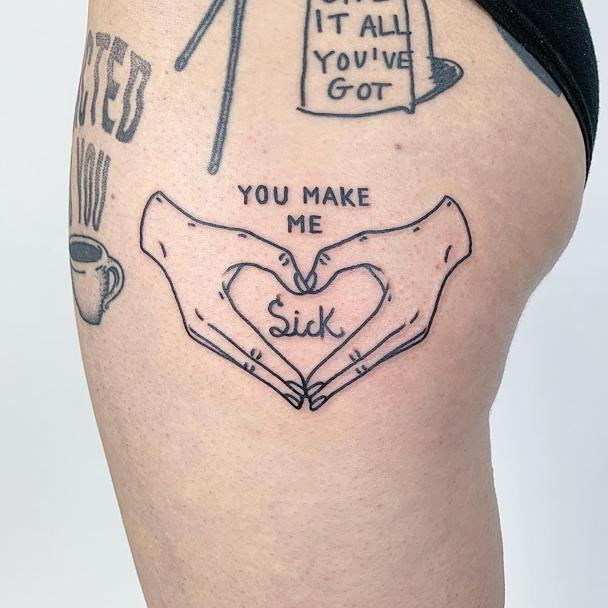tattoos: (139, 182, 474, 412), (67, 30, 153, 327), (295, 1, 464, 118), (174, 1, 247, 176)
